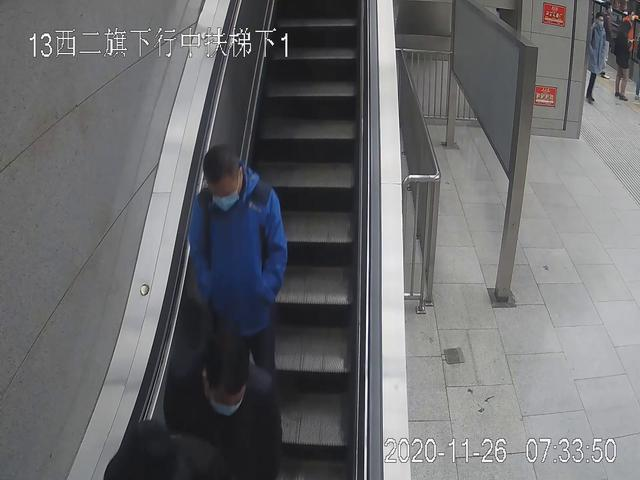person: (188, 147, 287, 418), (163, 333, 283, 480), (587, 13, 606, 103), (614, 19, 631, 102)
